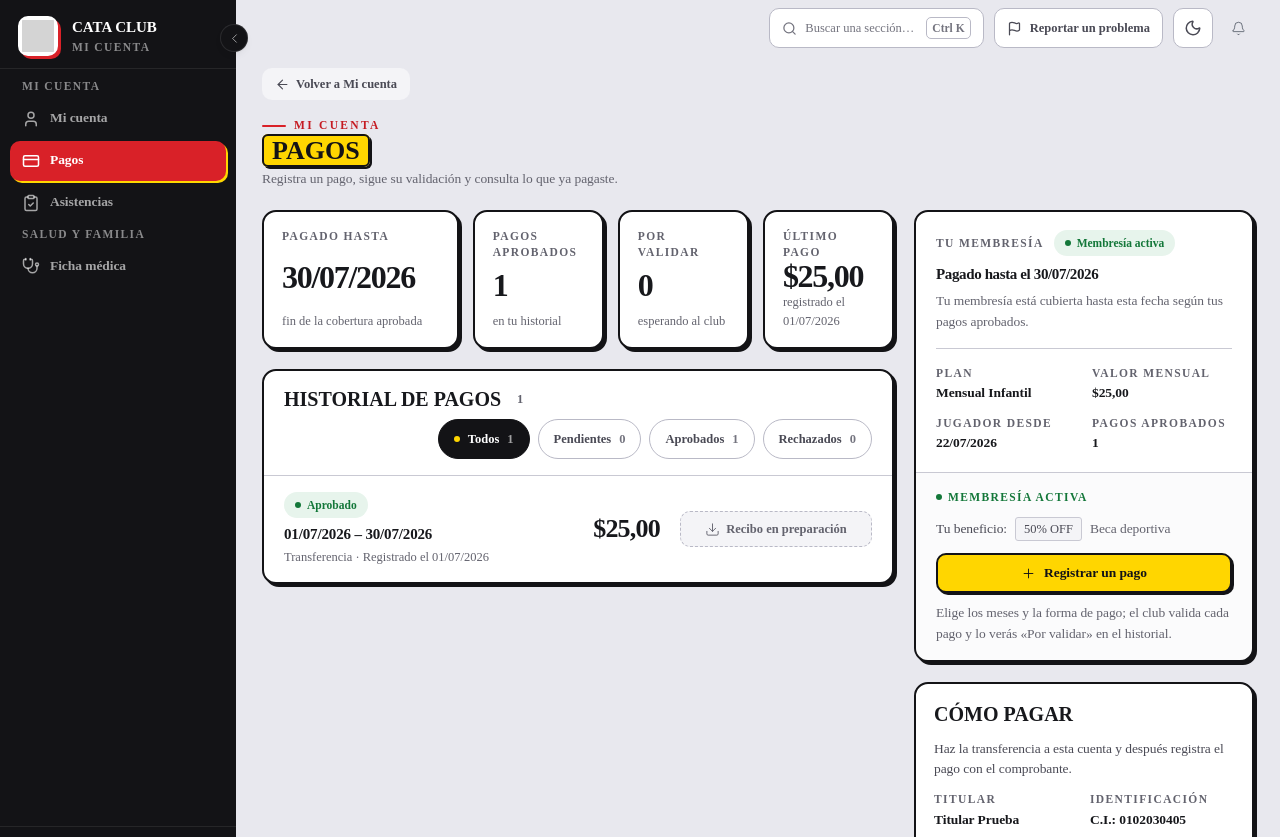
Test case: StudentPaymentsPage — the club's benefit, read before paying › shows the benefit's percentage before the payment form, and folds it into the estimated total
Expected: the text "Tu beneficio: 50% OFF Beca deportiva" is shown, [936,517,1170,542]
Expected: the text "50% OFF" is shown, [1015,517,1082,542]
What coordinates should you click on to do the following:
click the button "Registrar un pago"
I would click on:
 (1084, 573)
Its box is [936,553,1232,593].
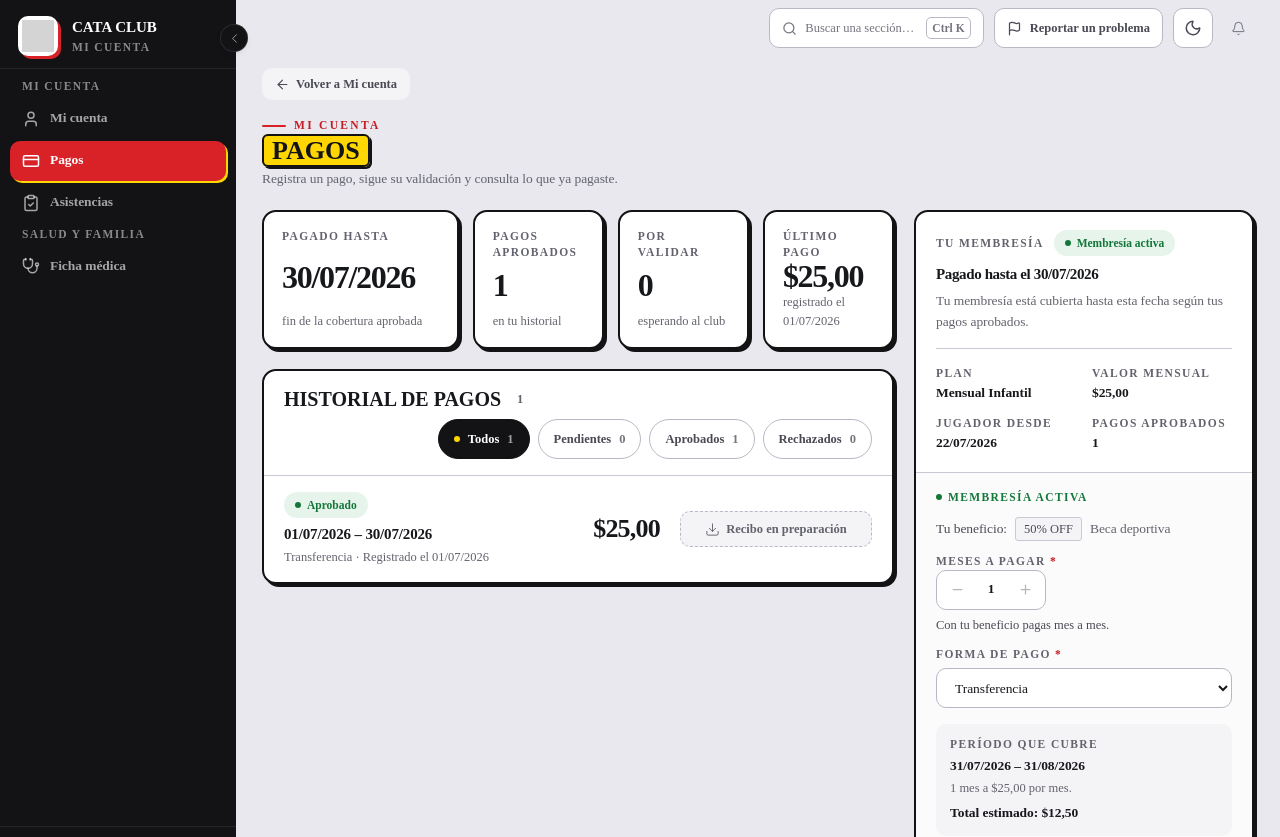
Expected: the text "Total estimado: $12,50" is shown, [950,806,1078,820]
